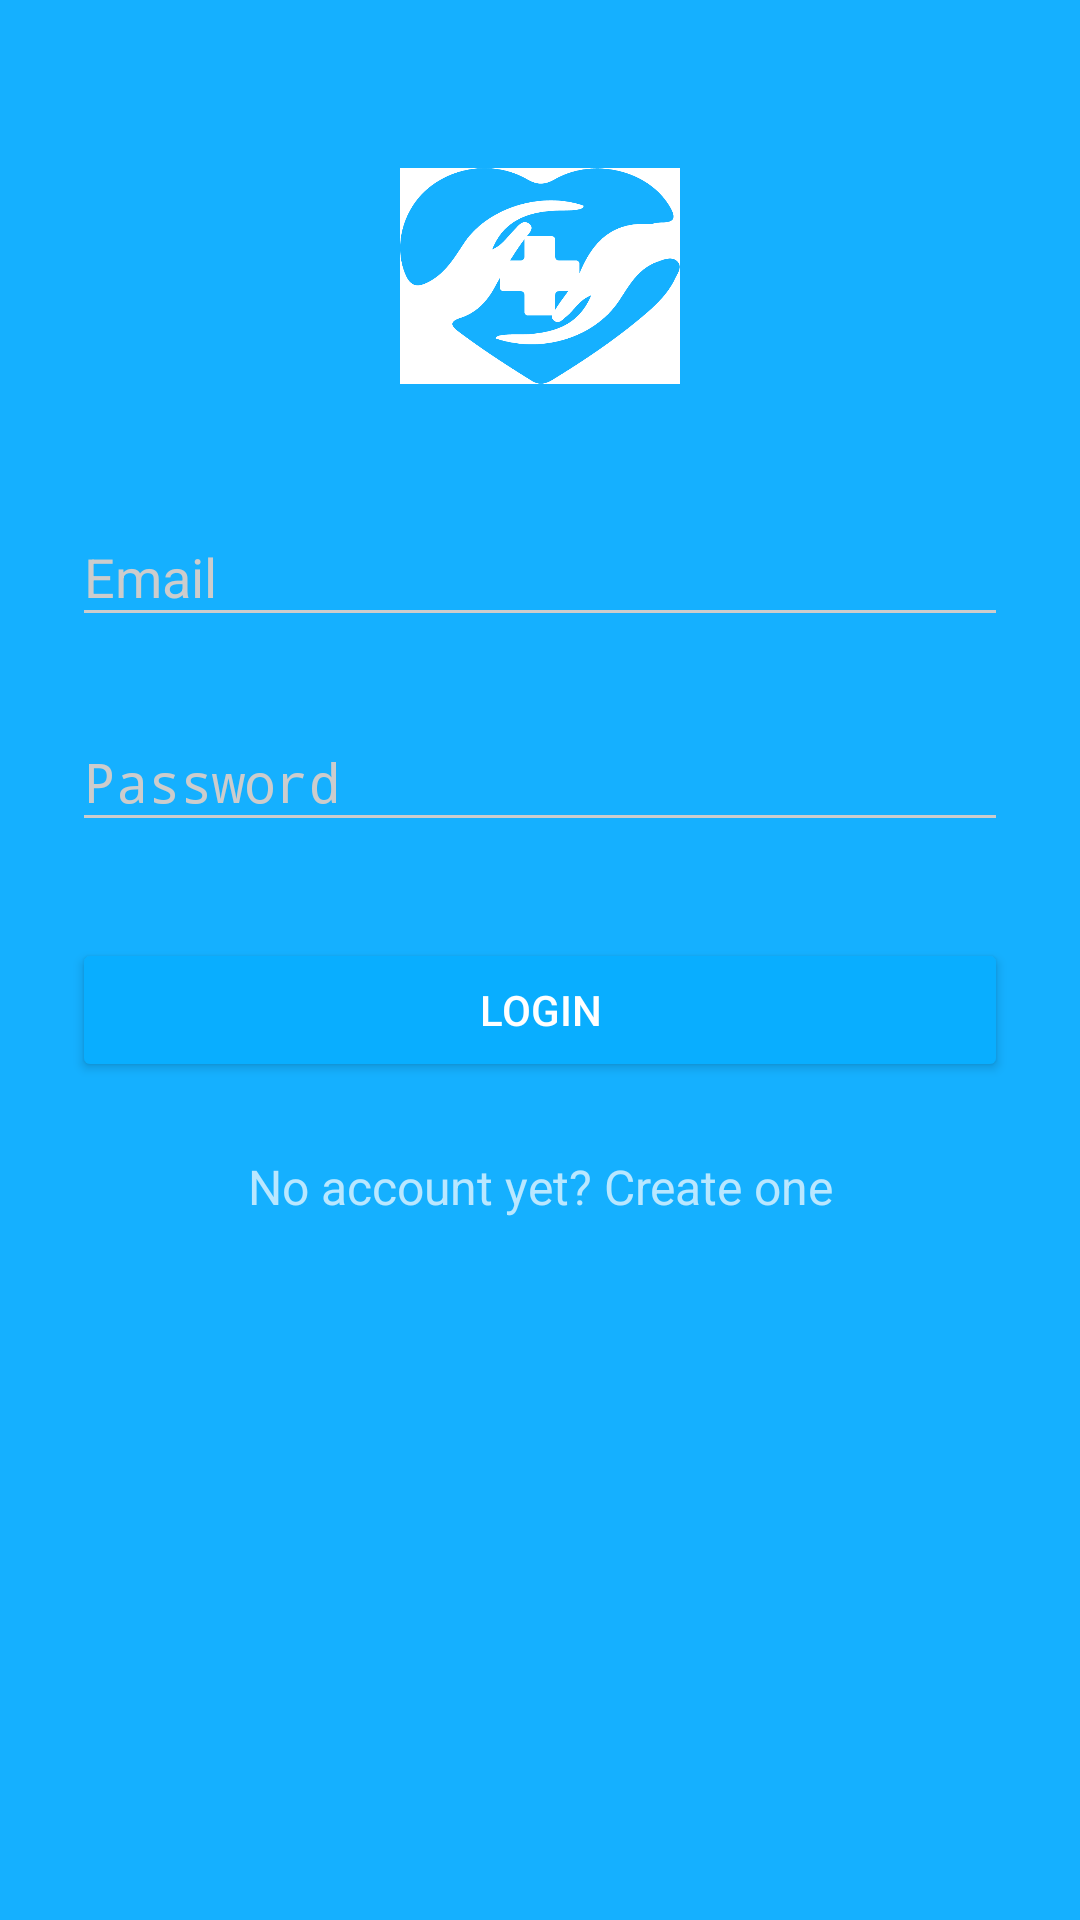

Named icons in this screenshot (1080*1920) and their centers, point (x, y):
heart: point (540, 276)
